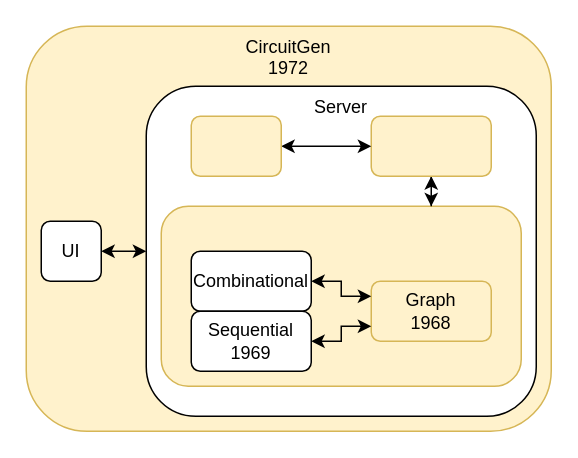
Some shapes in this 578 by 458 pixel diagram are drawn without their labels. Here are the shapes that lost their labels. From the top down, the box of each, then its label:
(190, 115, 281, 176): AI
(370, 115, 491, 176): Parameters 1971
(160, 205, 521, 386): Generator 1970
